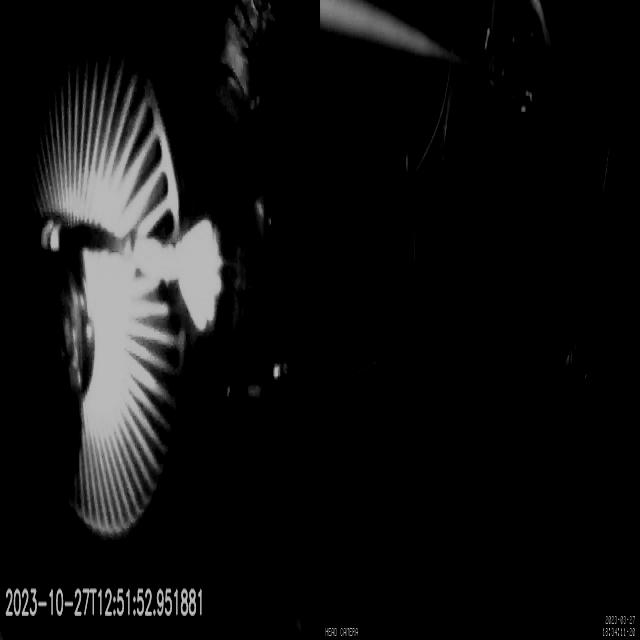head: (178, 218, 266, 347)
white-dots: (30, 214, 60, 253)
